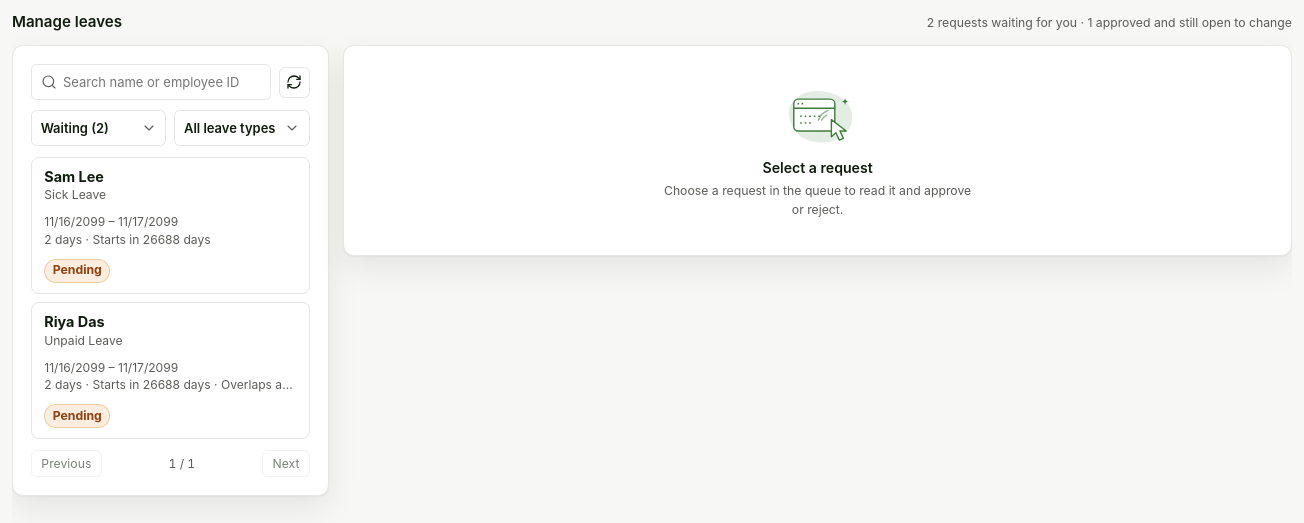
it: LeaveApprovalWorkspace › closes the panel with the ✕ or Esc, so the manager can stop for now
Click the text "Sam Lee" at (74,176), box [44,168,104,185]
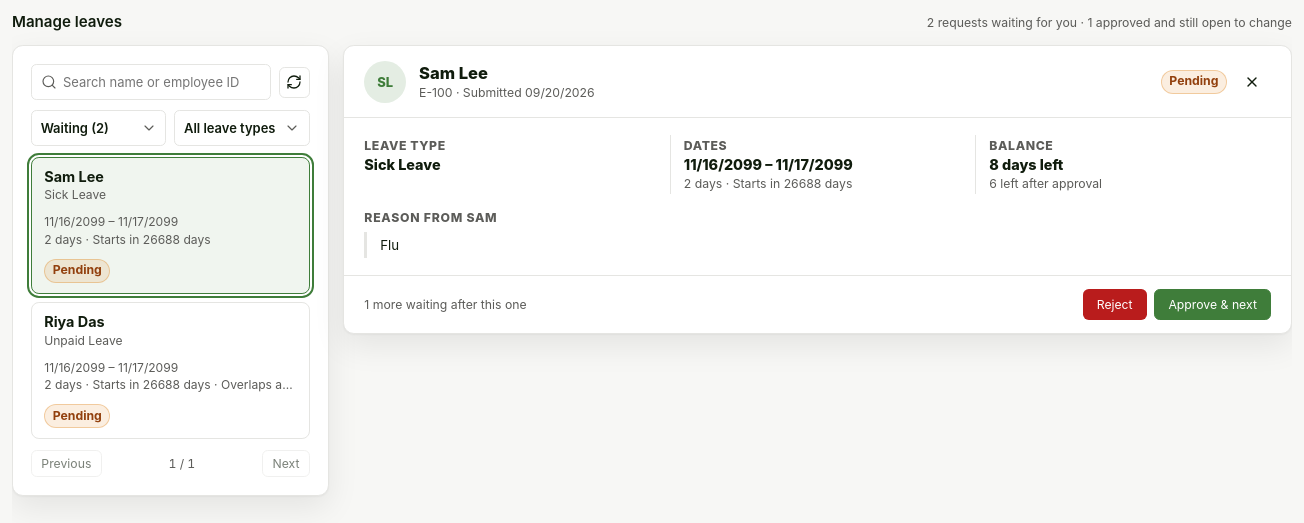
Click the button named "Close request" at (1252,82), box [1234,68,1271,95]
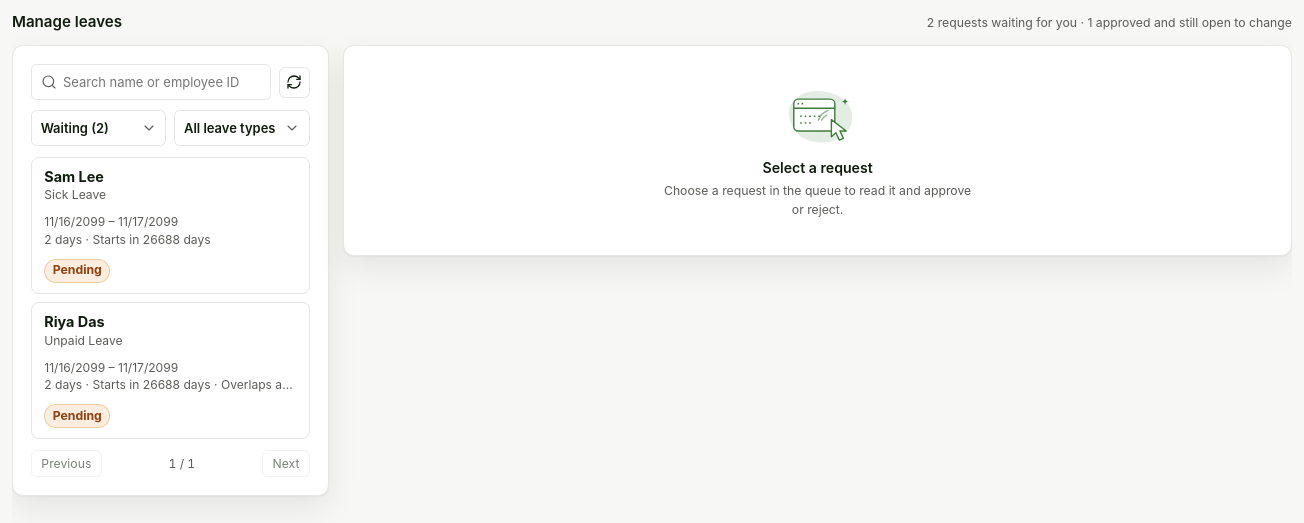
Now the text "Select a request" is shown, box [762,159,873,176]
Click the text "Riya Das" at (74,322), box [44,313,105,330]
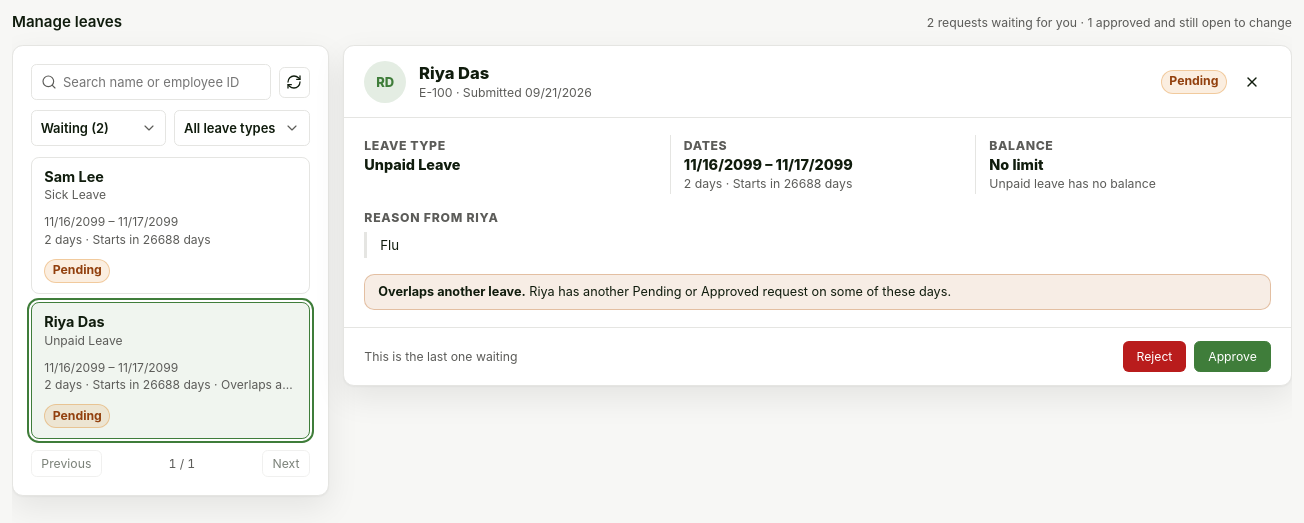
Now the heading "Riya Das" is shown, box [419,63,489,83]
Press Escape
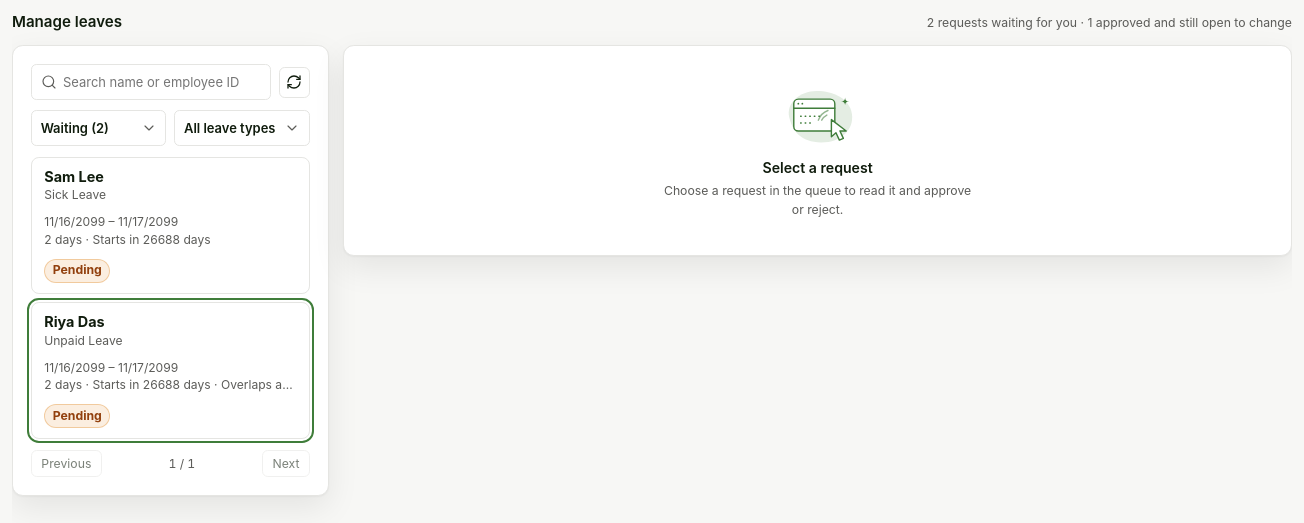
Now the text "Select a request" is shown, box [762,159,873,176]
